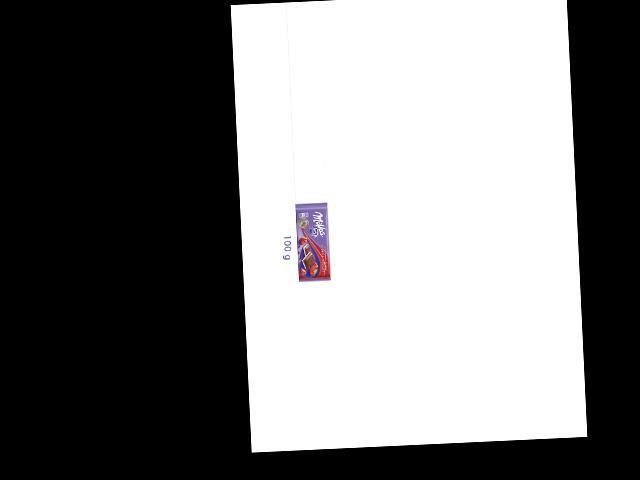chocolate: (291, 202, 331, 282)
